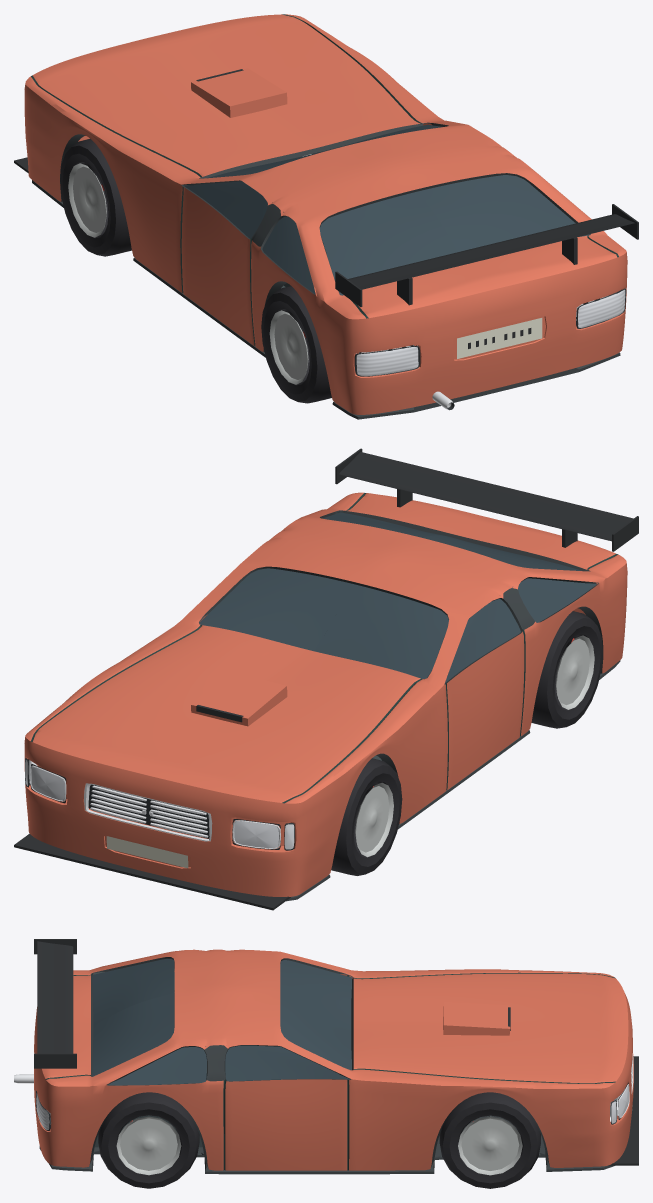
The model's file is forge_closed_gt_lod1.fbx.
The picture shows the model from 3 angles, top to bottom: view 1: azimuth 30°, elevation 25°; view 2: azimuth 150°, elevation 25°; view 3: azimuth 270°, elevation 25°; orthographic projection. The views are drawn at different scales.
Parts seen in each view (by area): view 1: Body, Wheel_FL_Mesh, Wheel_RL_Mesh; view 2: Body, Wheel_RL_Mesh, Wheel_FL_Mesh; view 3: Body, Wheel_FR_Mesh, Wheel_RR_Mesh.
Boxes of the visible parts, x1,y1,x2,y2 form: Body: (14, 14, 638, 419); Wheel_FL_Mesh: (60, 139, 131, 256); Wheel_RL_Mesh: (261, 286, 331, 403); Body: (14, 448, 638, 910); Wheel_RL_Mesh: (531, 611, 602, 728); Wheel_FL_Mesh: (331, 758, 402, 875); Body: (14, 939, 638, 1174); Wheel_FR_Mesh: (439, 1092, 540, 1188); Wheel_RR_Mesh: (98, 1092, 199, 1188).
Size of the model in its own units: 178 by 100 by 393.
